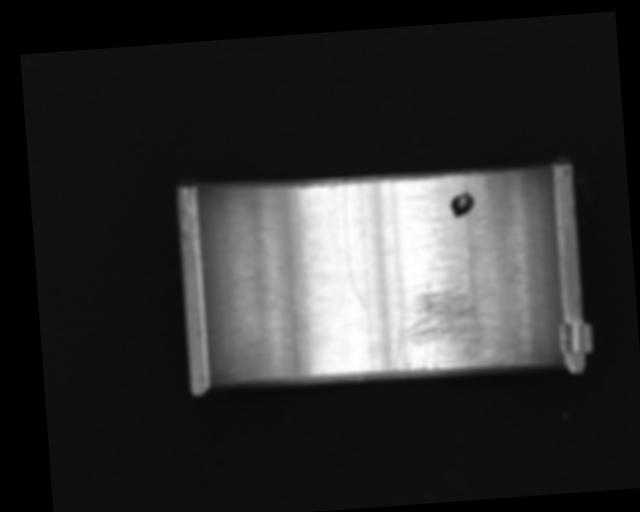blot: (448, 190, 477, 219)
nick: (340, 178, 367, 312)
scratch: (387, 273, 514, 375)
